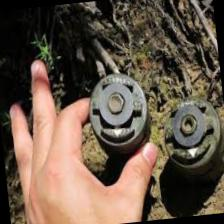M14: (86, 72, 154, 154), (161, 94, 224, 172)
